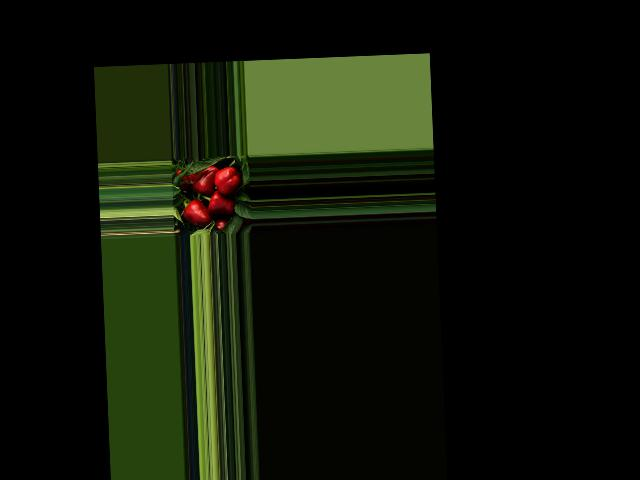bell_pepper: (213, 163, 241, 201)
